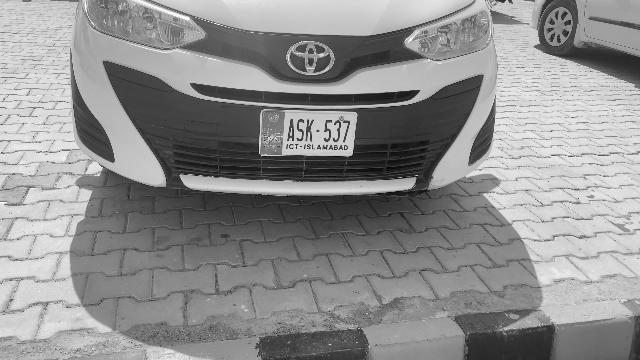Number: (285, 118, 352, 144)
